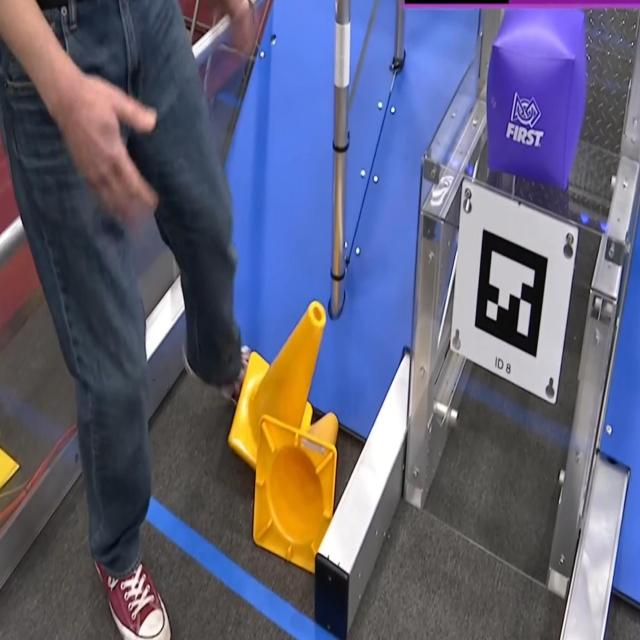frc_cone: (228, 297, 325, 468), (253, 407, 338, 567)
frc_cube: (489, 0, 585, 190)
